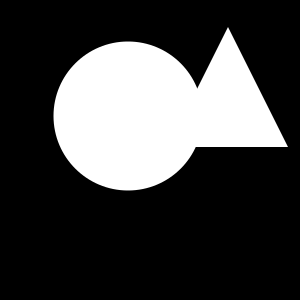rectangle: (54, 42, 202, 190), (160, 61, 172, 73)
triangle: (168, 27, 288, 147)
